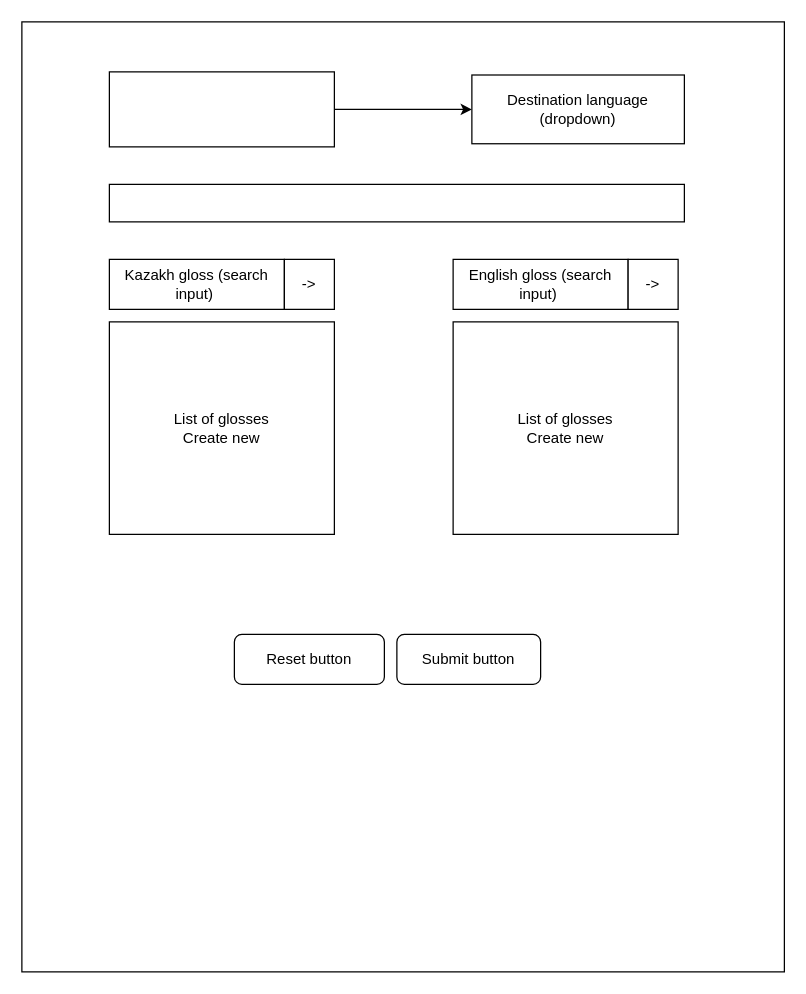
Image size: 806x994. Some labels were removed from this diagram. The centre of each missing label's shape, as x and y in pixels:
Part of speech (dropdown): (x=396, y=202)
Source language (dropdown): (x=221, y=109)
